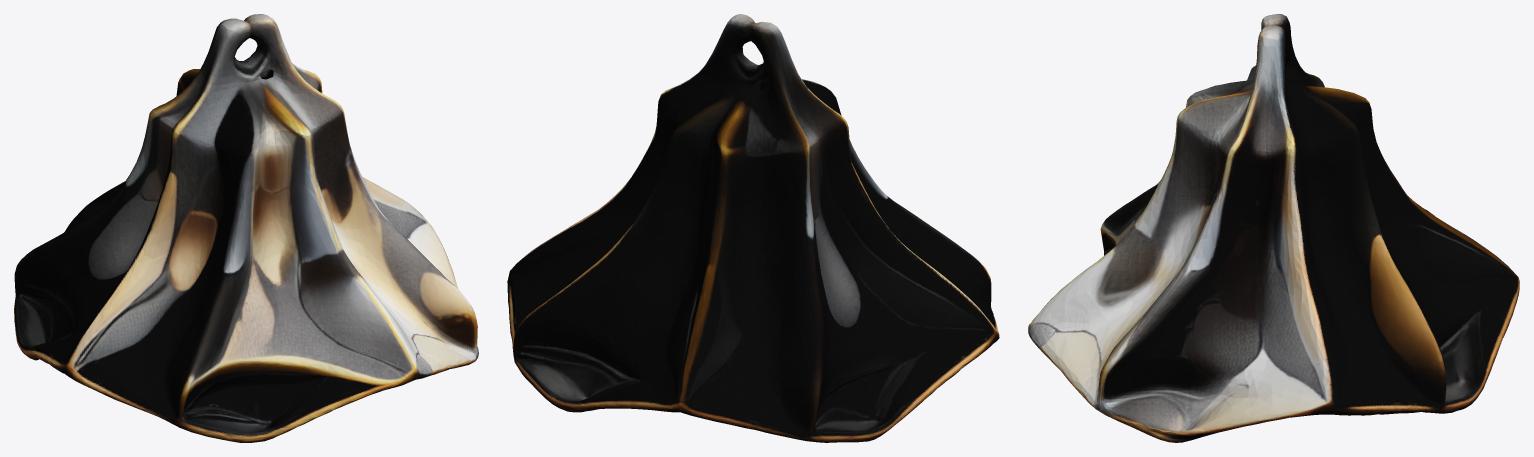
The model's file is ceramic-bell-futuristic.jpeg.glb.
3 renders of one model, left to right at view 1: azimuth 30°, elevation 25°; view 2: azimuth 150°, elevation 25°; view 3: azimuth 270°, elevation 25°, orthographic.
Parts seen in each view (by area): view 1: world; view 2: world; view 3: world.
Boxes of the visible parts, box(x1,y1,x2,y2) form: world: box(14, 14, 478, 442); world: box(507, 14, 999, 442); world: box(1028, 14, 1519, 442).
Size of the model in its own units: 0.9997 by 0.7604 by 1.
1 material, 1 textured.
